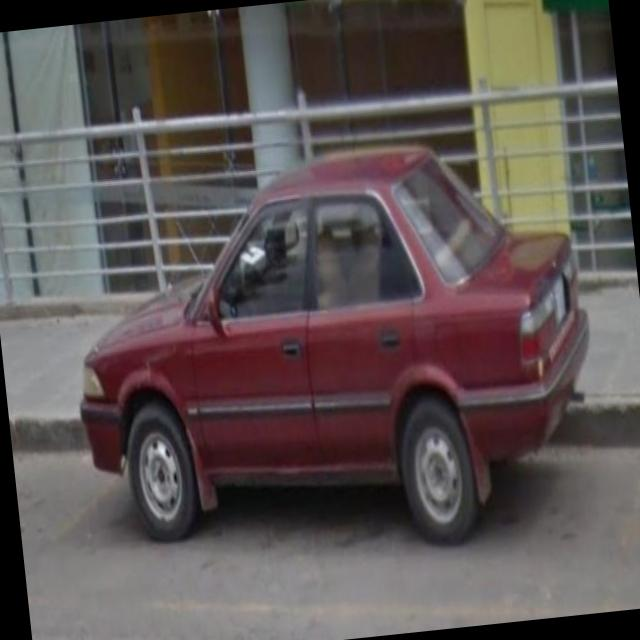car: (59, 138, 608, 581)
